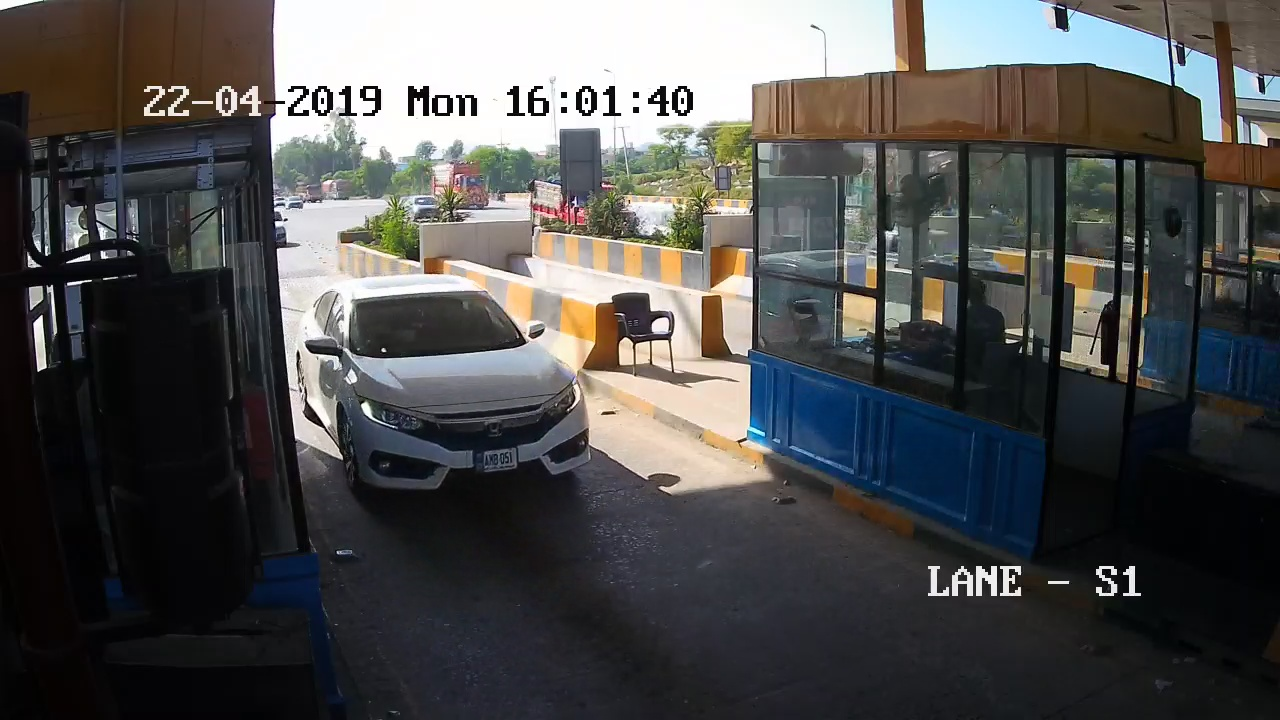car: (288, 272, 595, 491)
